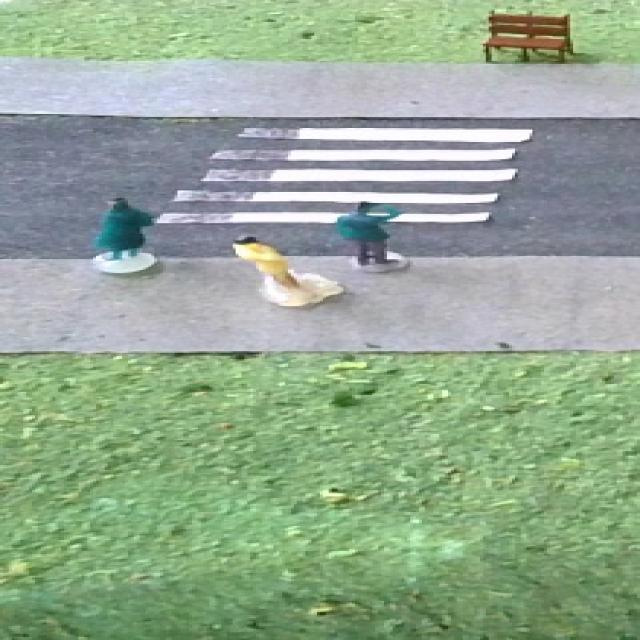person: (219, 228, 326, 308), (328, 194, 412, 274), (87, 191, 164, 277)
